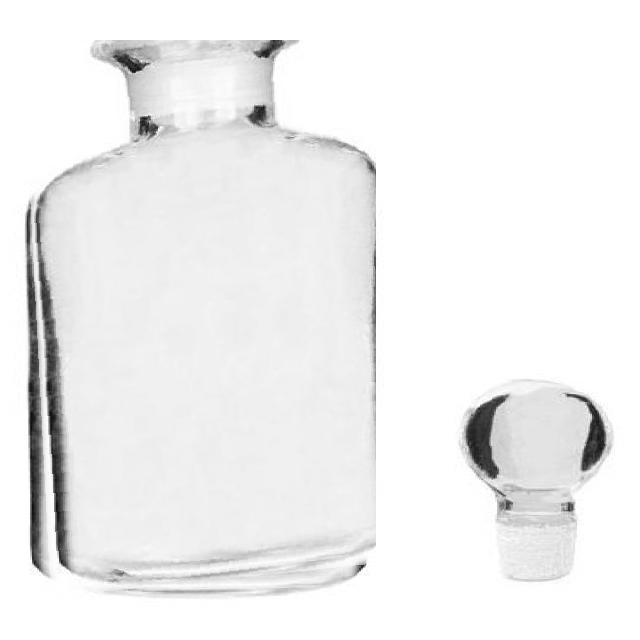Glass: (22, 40, 376, 597), (458, 378, 614, 584)
